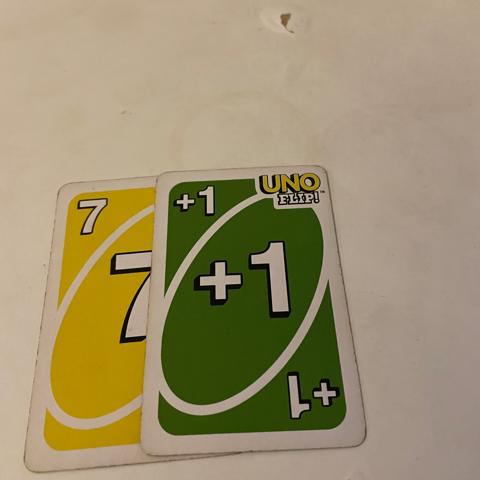1_yellow: (74, 197, 111, 238)
